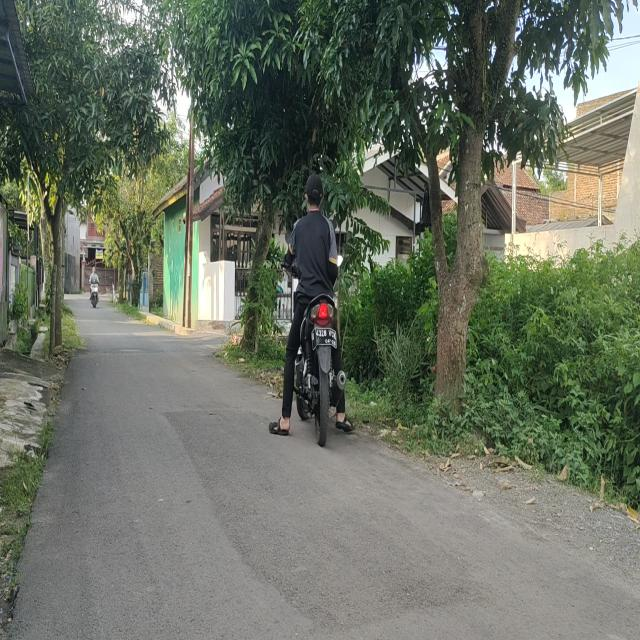no-helmet: (304, 178, 325, 210)
